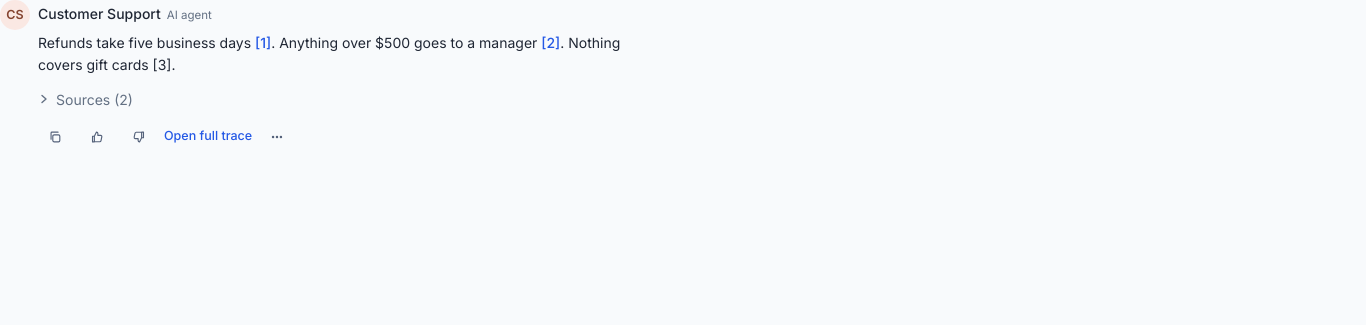
Test: AnswerBubble sources › shows a folded "Sources (n)" list of what the agent was given, labelled as such
Click the button "Sources (2)" at (85,99), box [32,85,139,114]
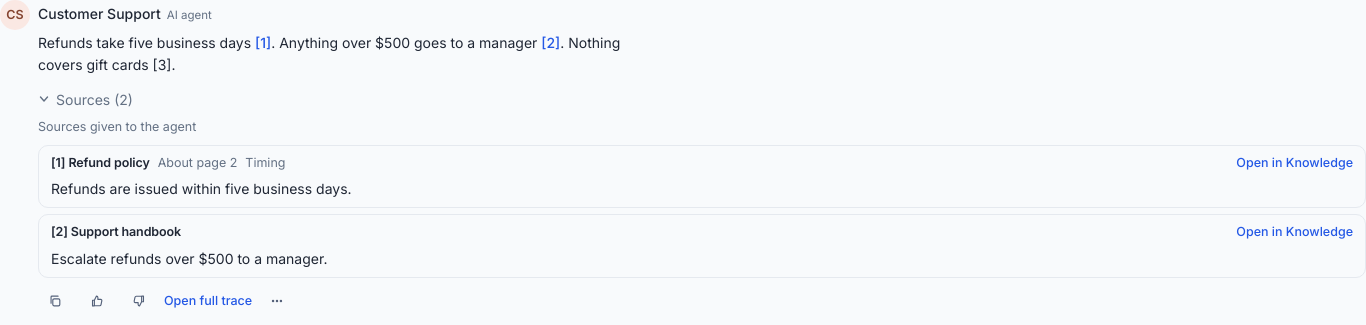
expect the button "Sources (2)" is expanded: met, box [32,85,139,114]
expect the text "[1] Refund policy" is shown: met, box [51,154,150,172]
expect the text "[2] Support handbook" is shown: met, box [51,223,181,242]
